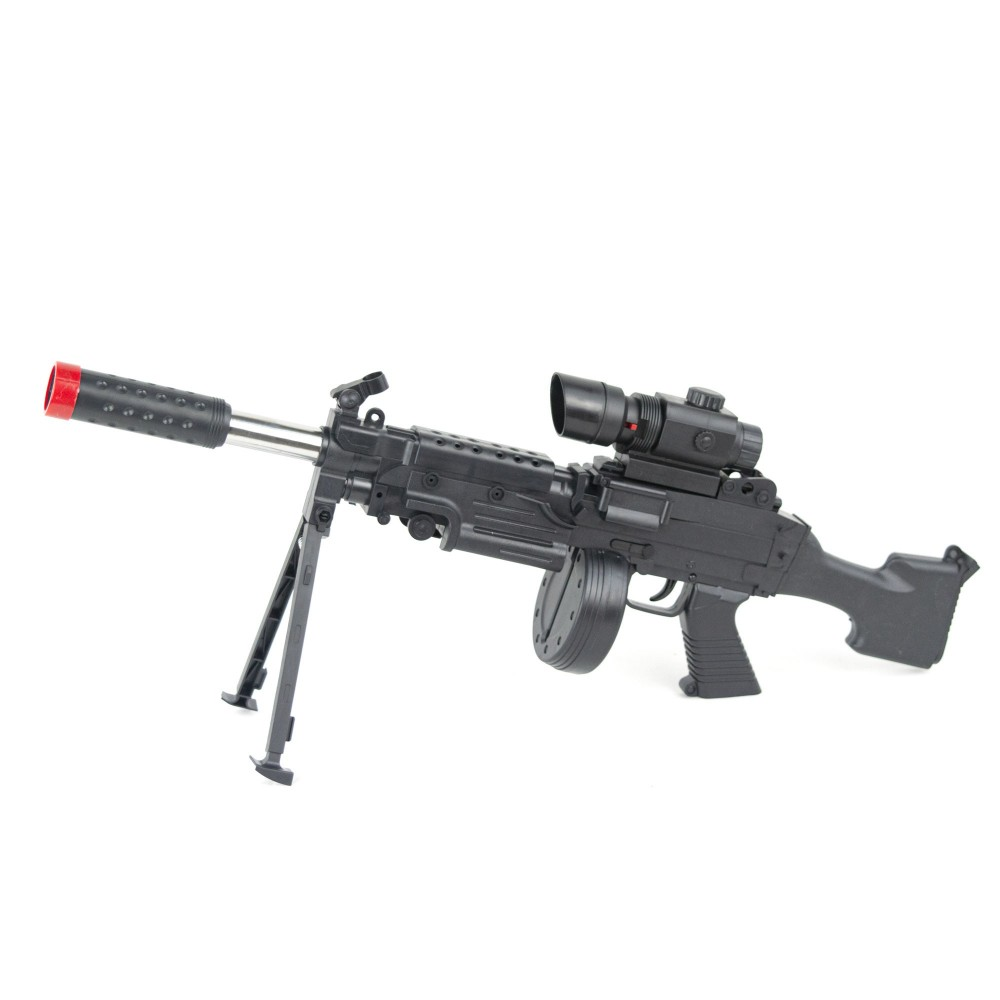Arma Falsa: (32, 356, 990, 792)
